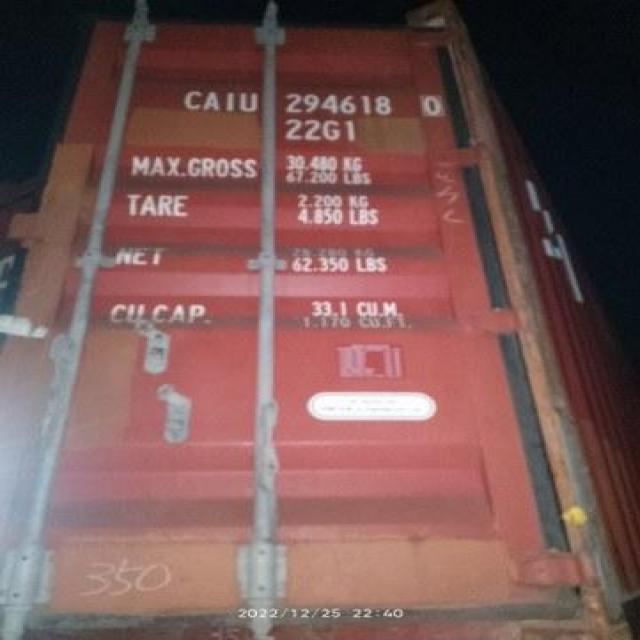ISO: (285, 120, 353, 147)
container_number: (194, 90, 444, 118)
